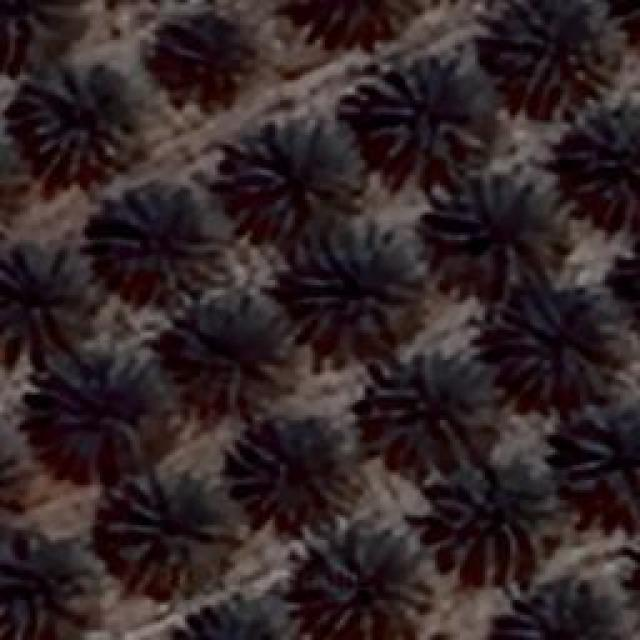PalmTree: (220, 117, 362, 240), (425, 175, 563, 298), (32, 358, 178, 472), (100, 465, 232, 590), (422, 445, 560, 560), (224, 414, 362, 528), (95, 200, 230, 310), (295, 225, 423, 340), (302, 522, 430, 636), (347, 62, 475, 176), (494, 288, 608, 398), (492, 2, 618, 100), (17, 62, 125, 176), (170, 299, 292, 399), (145, 9, 260, 109), (0, 530, 105, 638), (360, 348, 470, 450), (0, 241, 100, 351), (500, 565, 640, 640), (568, 92, 638, 226), (278, 0, 434, 50), (562, 402, 636, 500), (189, 577, 292, 640), (0, 0, 80, 60), (0, 123, 31, 230), (0, 421, 31, 528), (608, 0, 640, 57)
